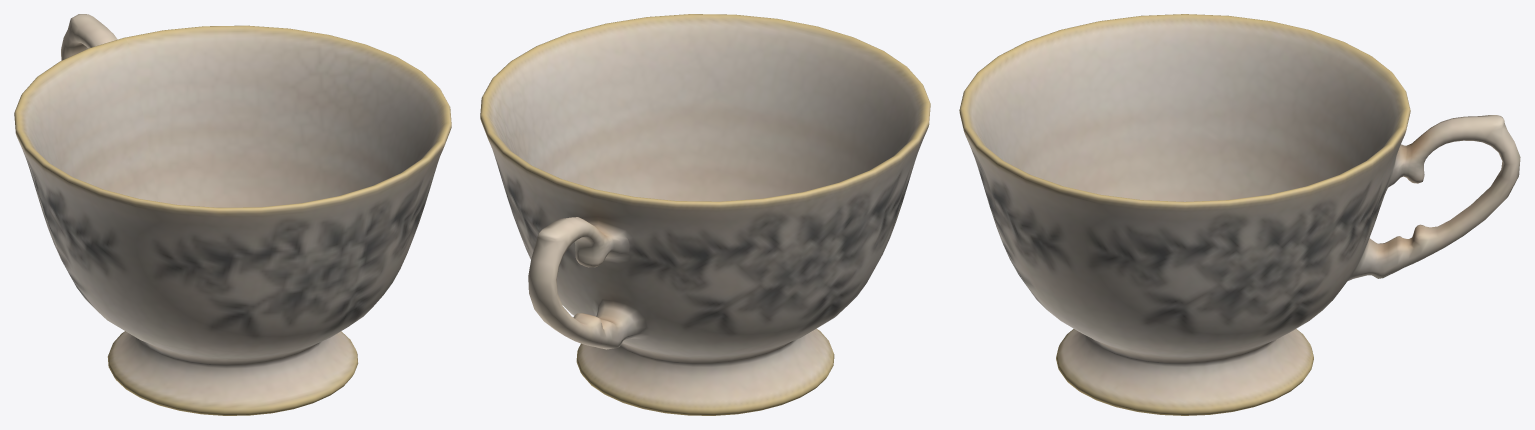
The model's file is taza.glb.
3 renders of one model, left to right at view 1: azimuth 30°, elevation 25°; view 2: azimuth 150°, elevation 25°; view 3: azimuth 270°, elevation 25°, orthographic. The views are drawn at different scales.
Parts seen in each view (by area): view 1: tea_set_01_cup_small_01; view 2: tea_set_01_cup_small_01; view 3: tea_set_01_cup_small_01.
Boxes of the visible parts, left/top/right/bottom form: tea_set_01_cup_small_01: left=14, top=14, right=451, bottom=415; tea_set_01_cup_small_01: left=480, top=14, right=930, bottom=415; tea_set_01_cup_small_01: left=959, top=14, right=1520, bottom=415.
Bounding box in the file's own units: 0.1069 × 0.0674 × 0.133.
1 material, 1 textured.
